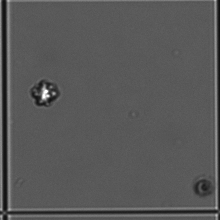Dead Cell: (192, 174, 214, 199)
Living Cell: (30, 75, 63, 109)
